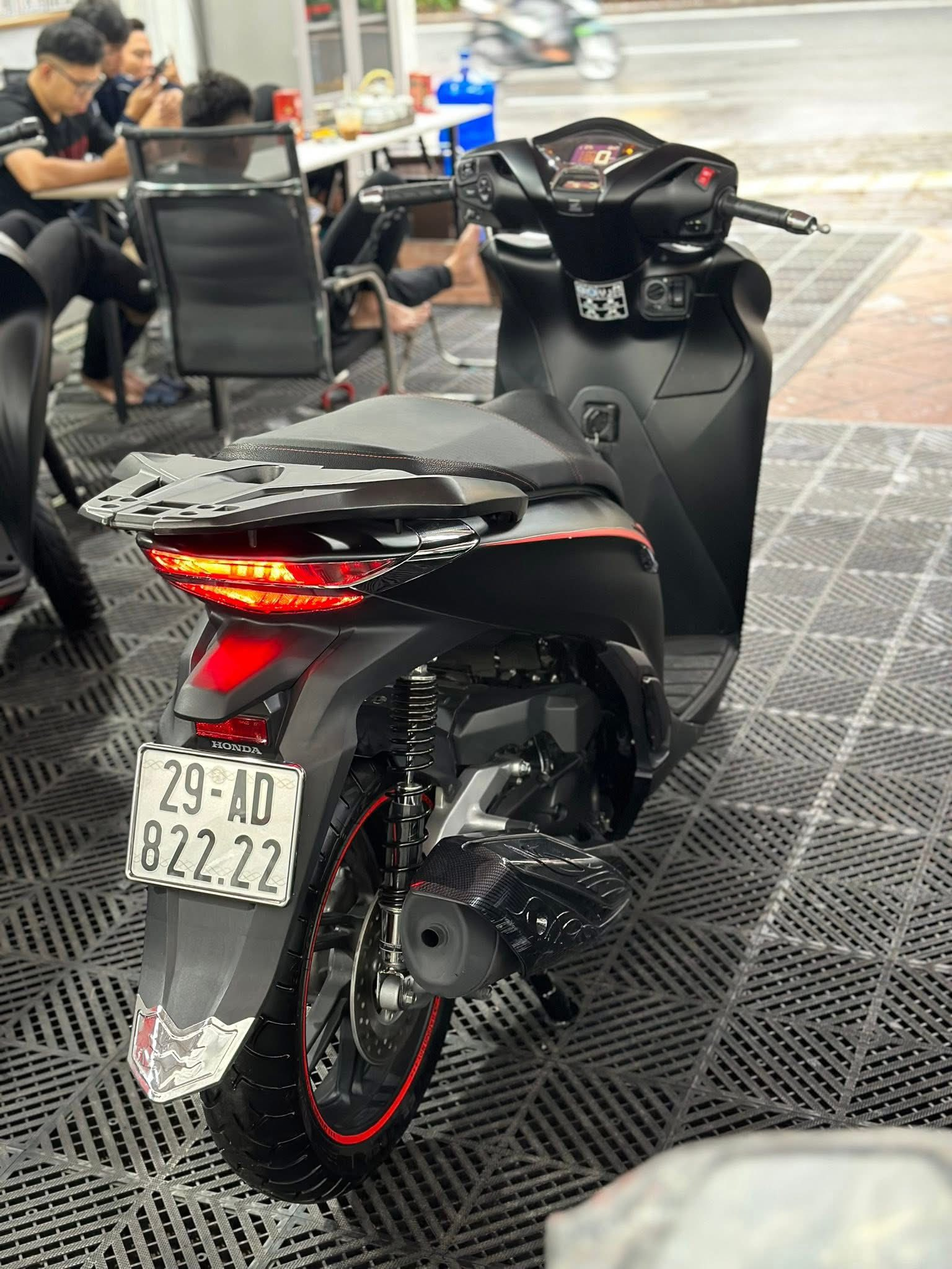bien_so: (119, 721, 314, 923)
